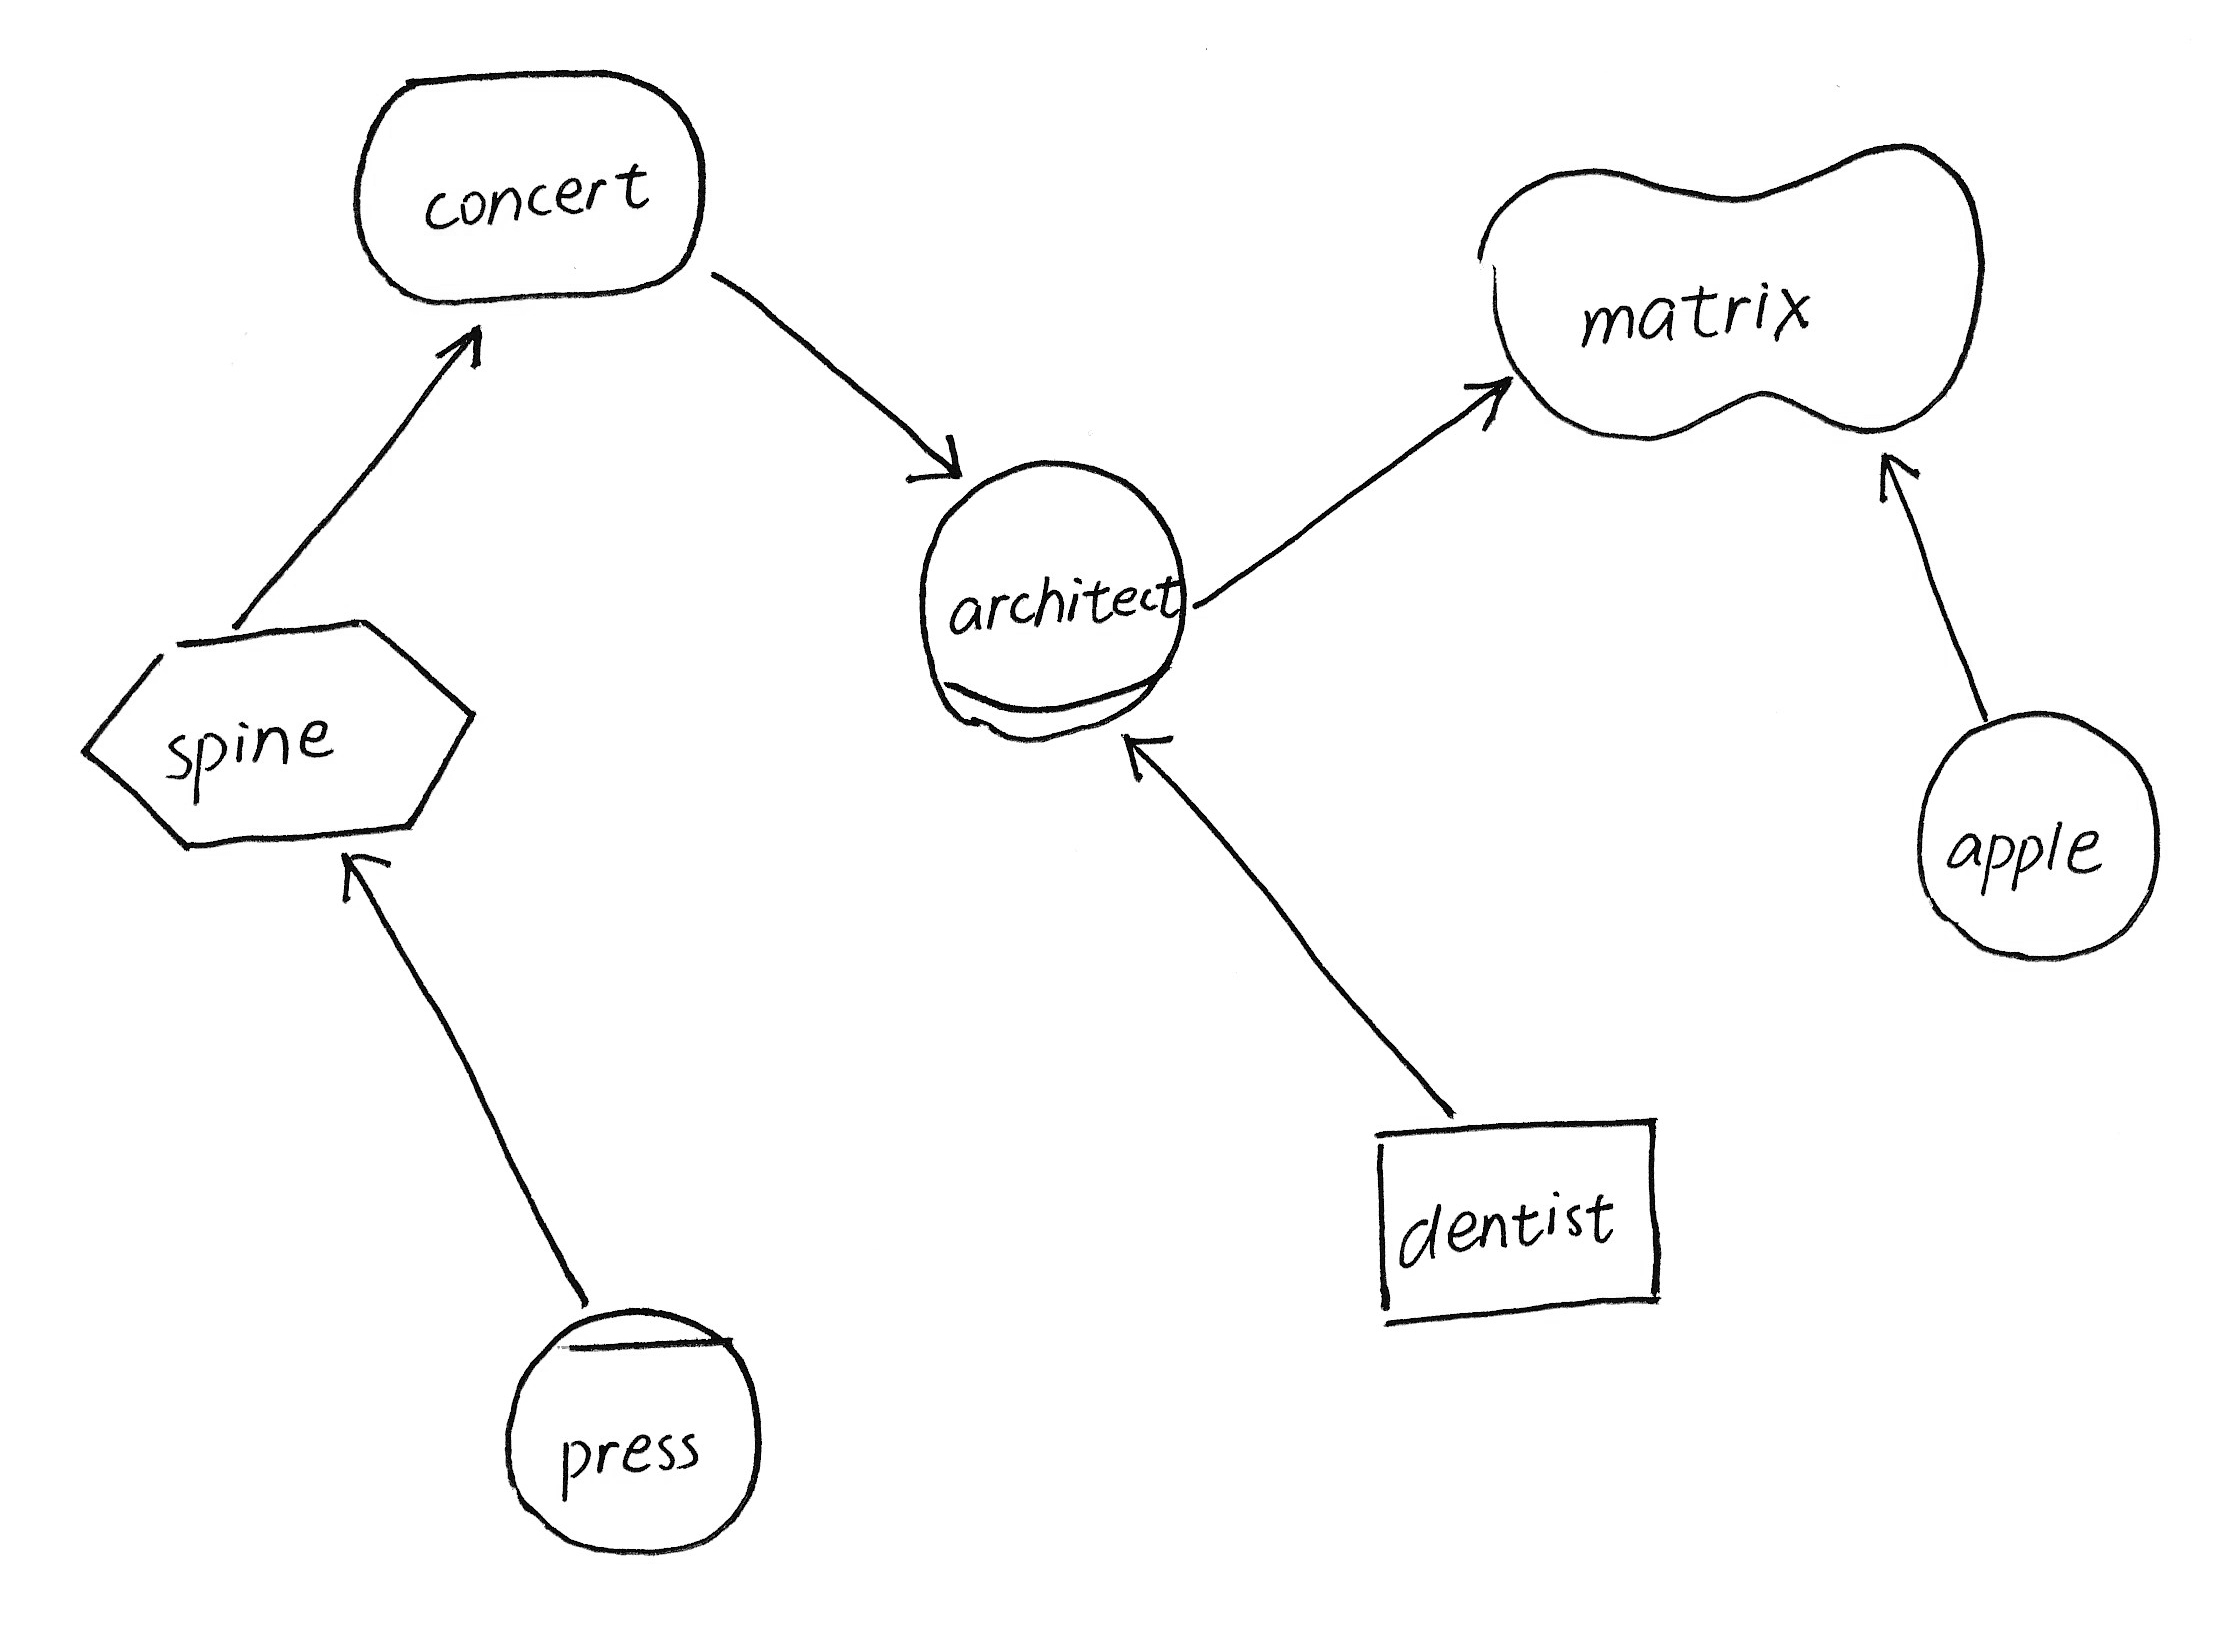actor: (1901, 695, 2178, 979)
agent: (489, 1285, 781, 1564)
arrow: (319, 831, 411, 913), (1455, 355, 1526, 450), (1864, 424, 1939, 514), (897, 417, 974, 504), (1105, 714, 1182, 799), (428, 312, 504, 393)
goal: (333, 52, 726, 315)
quality: (1455, 125, 2010, 457)
resource: (1346, 1096, 1684, 1339)
role: (904, 443, 1209, 764)
task: (61, 601, 490, 866)
